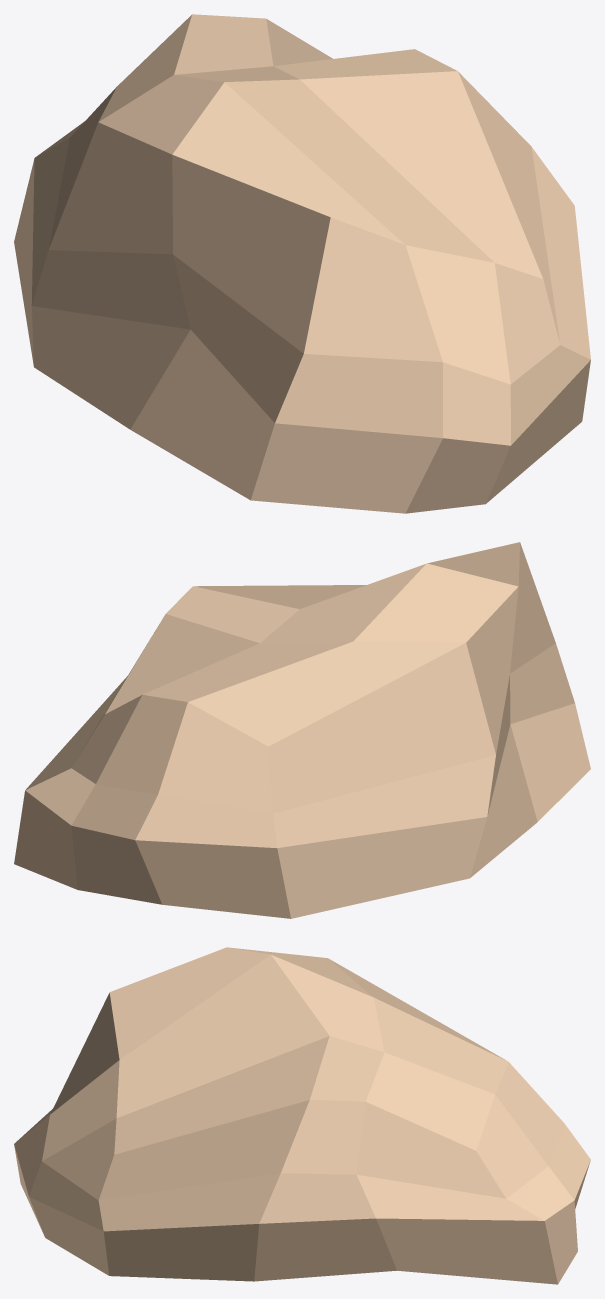
Rendered from PedraDois.fbx.
3 views of the same model, one above another, from view 1: azimuth 30°, elevation 25°; view 2: azimuth 150°, elevation 25°; view 3: azimuth 270°, elevation 25° (orthographic). The views are drawn at different scales.
Parts seen in each view (by area): view 1: Rock3; view 2: Rock3; view 3: Rock3.
Part boxes in pixels (bbox=[...]): Rock3: bbox=[14, 14, 590, 513]; Rock3: bbox=[14, 542, 590, 918]; Rock3: bbox=[14, 947, 590, 1284].
Bounding box in the file's own units: 24.58 × 16.55 × 35.29.
